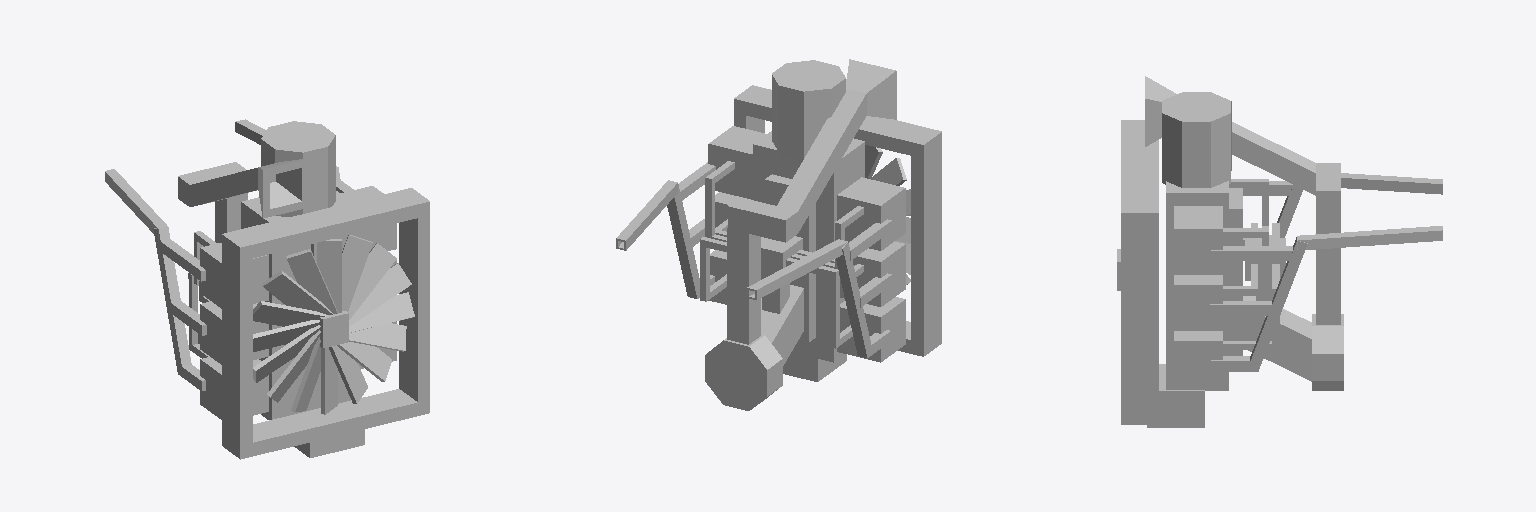
File: enginefranklin0335.obj
3 renders of one model, left to right at view 1: azimuth 30°, elevation 25°; view 2: azimuth 150°, elevation 25°; view 3: azimuth 270°, elevation 25°, orthographic.
Parts seen in each view (by area): view 1: Engine, $Vent; view 2: Engine, $Vent; view 3: Engine.
Boxes of the visible parts, x1=… form: Engine: x1=105, y1=119, x2=429, y2=459; $Vent: x1=253, y1=235, x2=414, y2=414; Engine: x1=616, y1=59, x2=941, y2=410; $Vent: x1=865, y1=145, x2=910, y2=284; Engine: x1=1121, y1=76, x2=1442, y2=427.
Bounding box in the file's own units: 1.2 × 1.82 × 1.78.